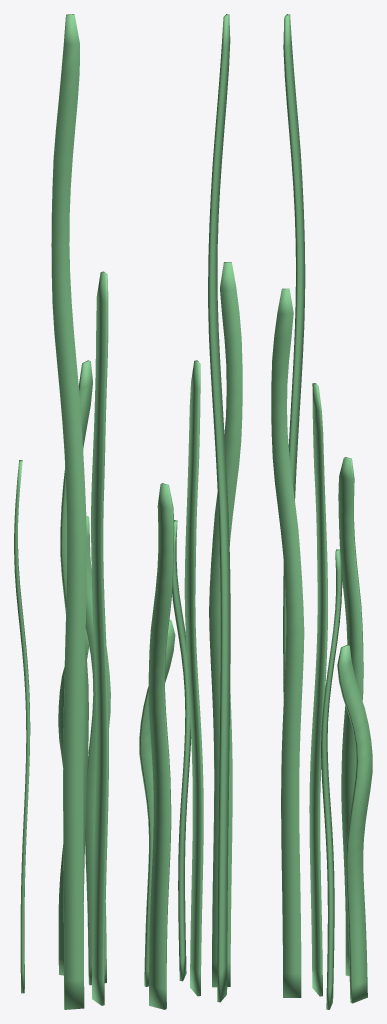
The model's file is Large2.fbx.
The picture shows the model from 3 angles, left to right: view 1: azimuth 90°, elevation 25°; view 2: azimuth 150°, elevation 25°; view 3: azimuth 330°, elevation 25°; orthographic projection. The views are drawn at different scales.
Parts seen in each view (by area): view 1: Large2_EXPORT; view 2: Large2_EXPORT; view 3: Large2_EXPORT.
Boxes of the visible parts, box(x1,y1,x2,y2) form: Large2_EXPORT: box(14, 14, 110, 1009); Large2_EXPORT: box(139, 14, 242, 1009); Large2_EXPORT: box(271, 14, 372, 1009).
Bounding box in the file's own units: 1.41 × 15.74 × 1.39.
